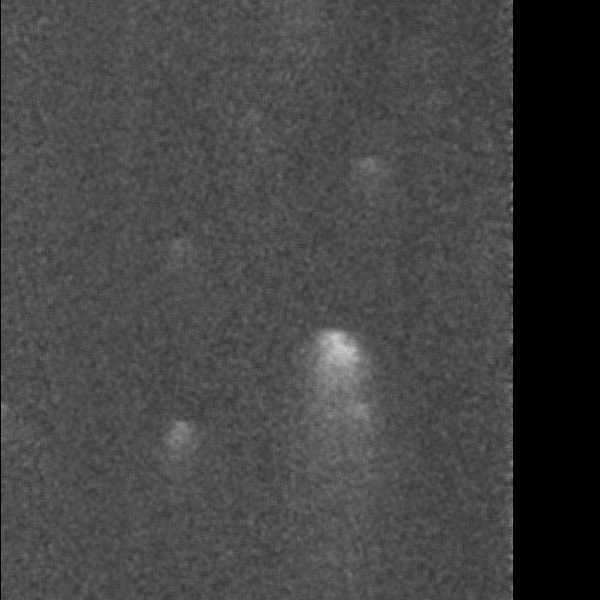spark: (307, 324, 371, 481), (166, 416, 195, 509), (356, 152, 382, 204), (160, 236, 198, 262), (240, 104, 263, 139)
